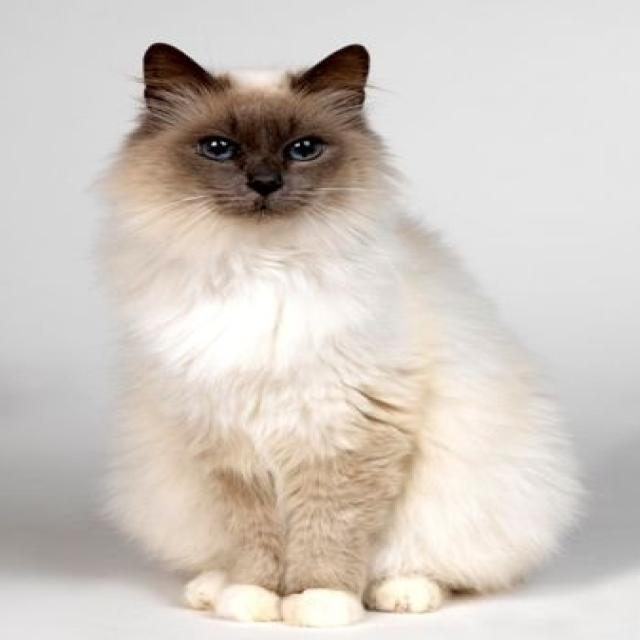Birman: (92, 33, 584, 625)
